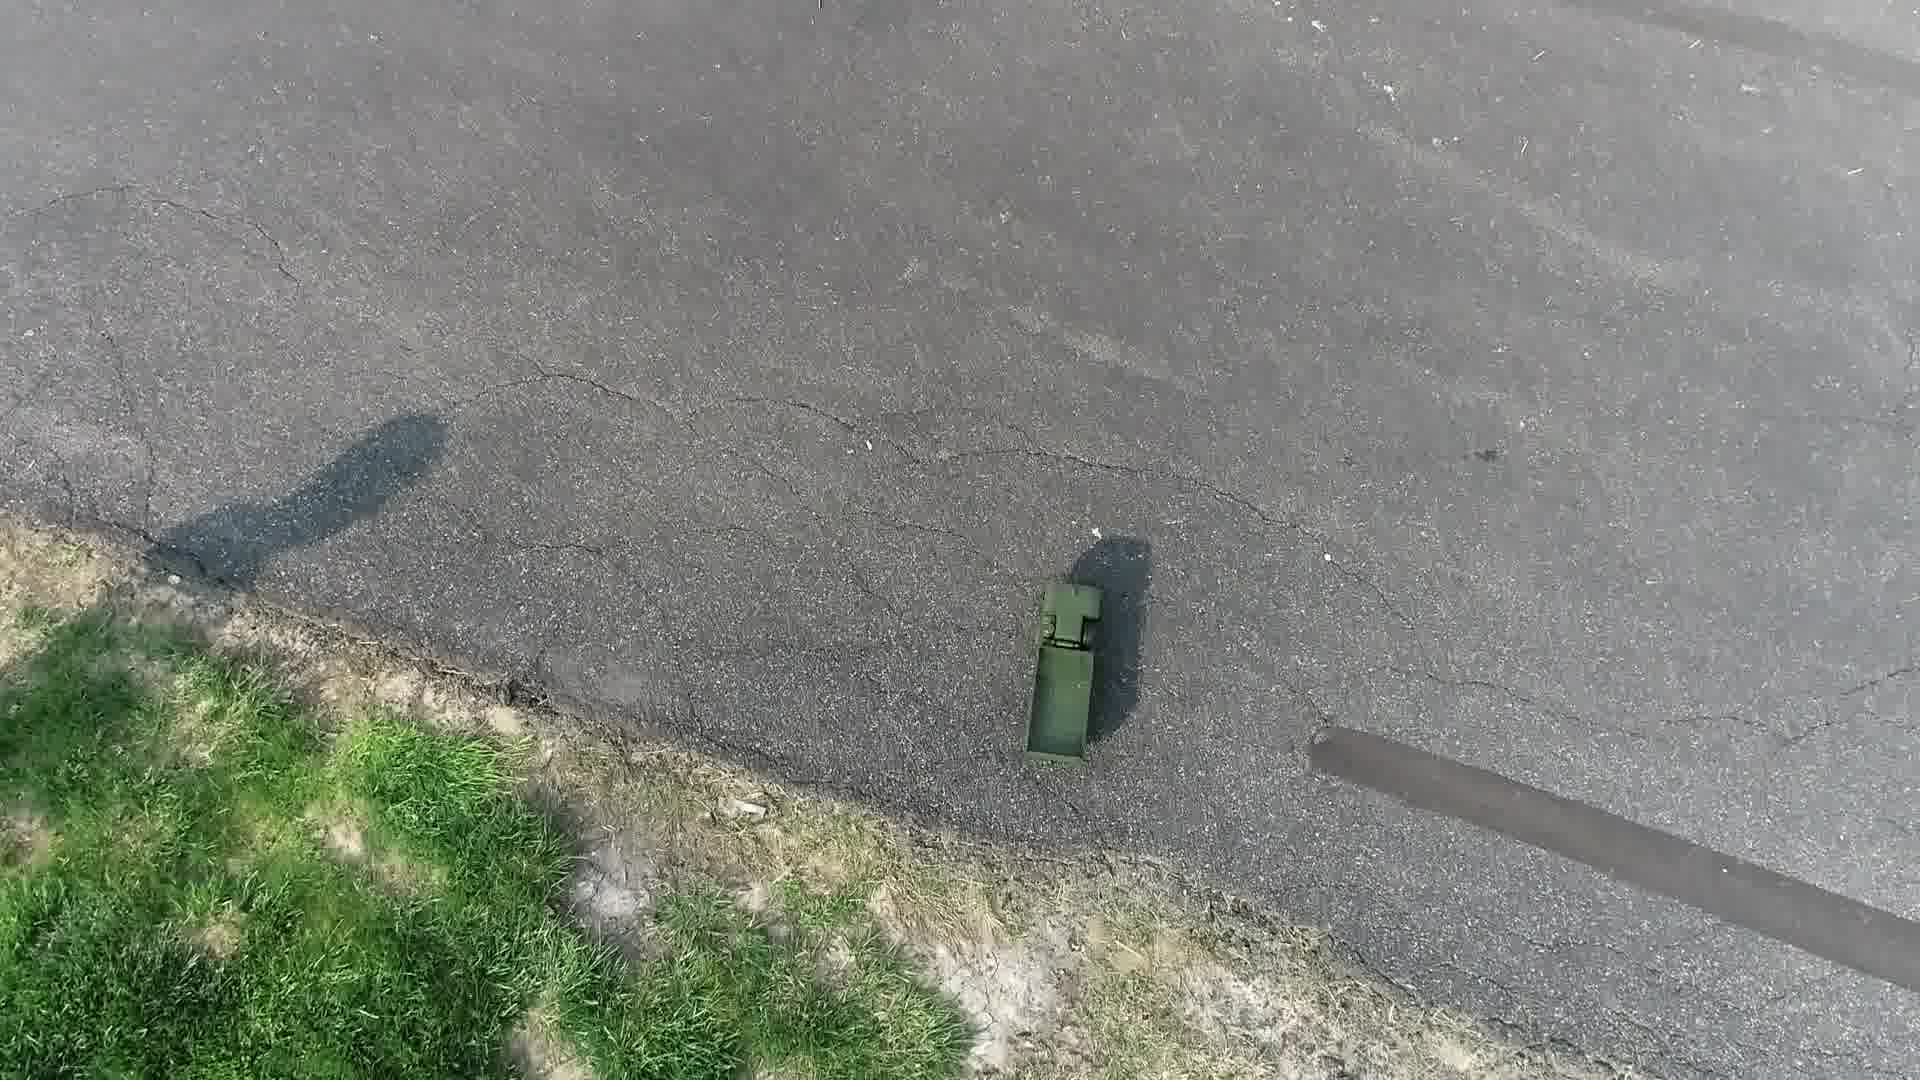transporter9: (1011, 570, 1116, 764)
